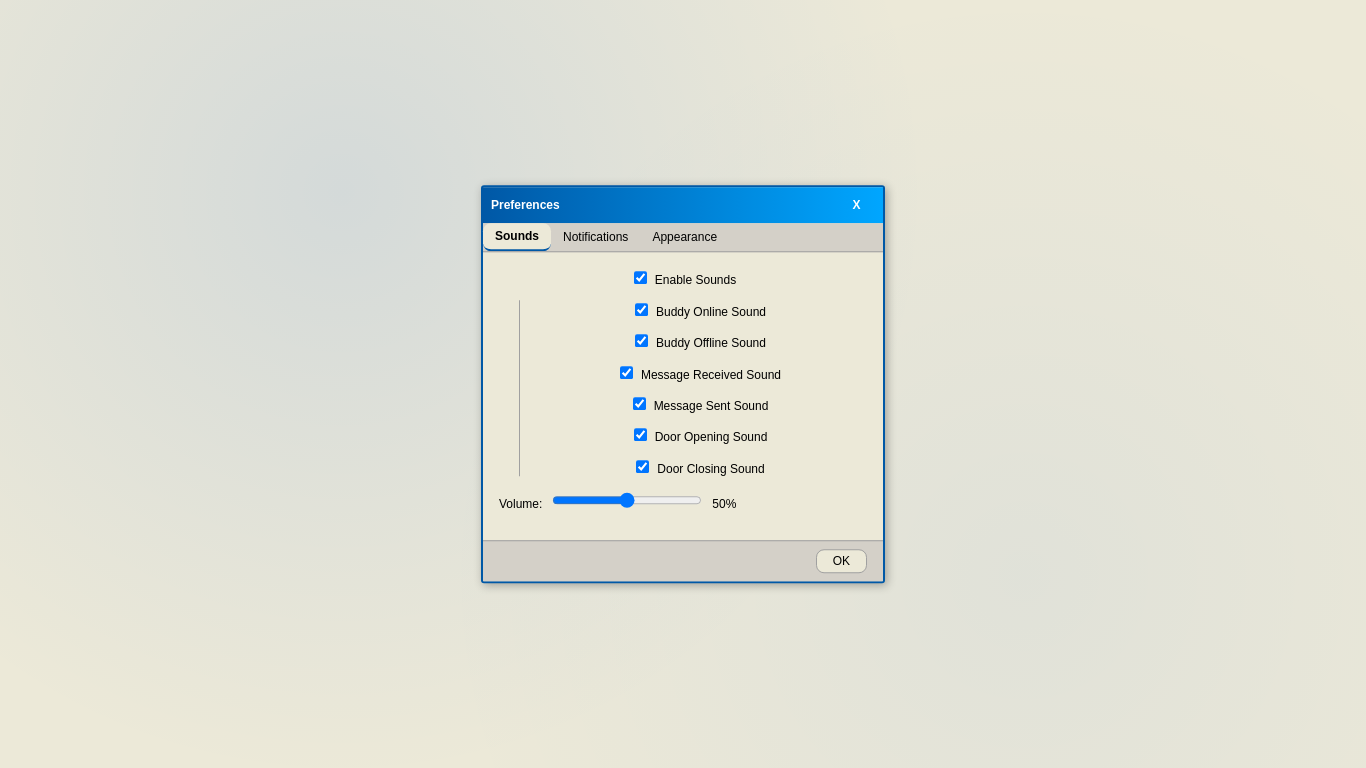
Test case: PreferencesWindow › should switch to notifications tab when clicked
Note: Click on notifications tab
Step 1. Click the button "Notifications" → (596, 238), box [551, 224, 640, 252]
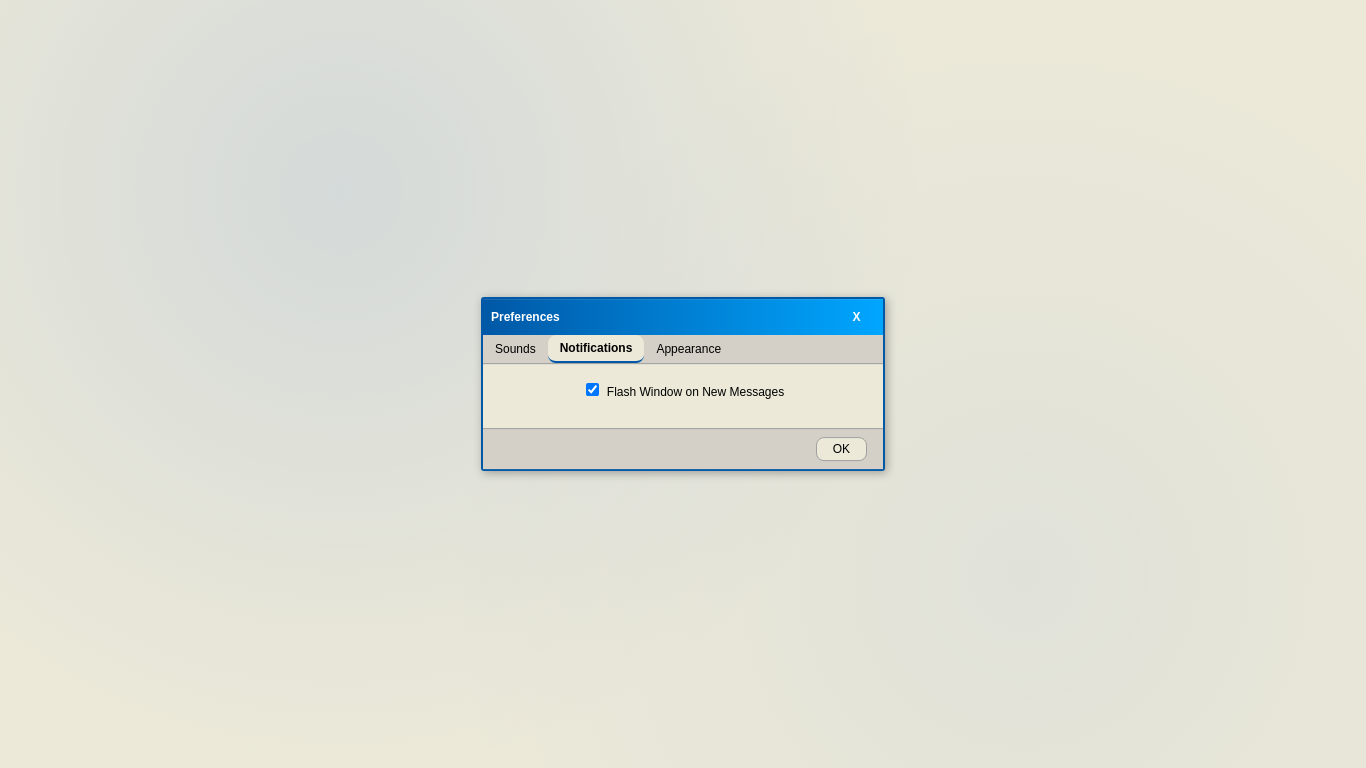
Expected: the text "Flash Window on New Messages" is shown, [582, 386, 784, 400]
